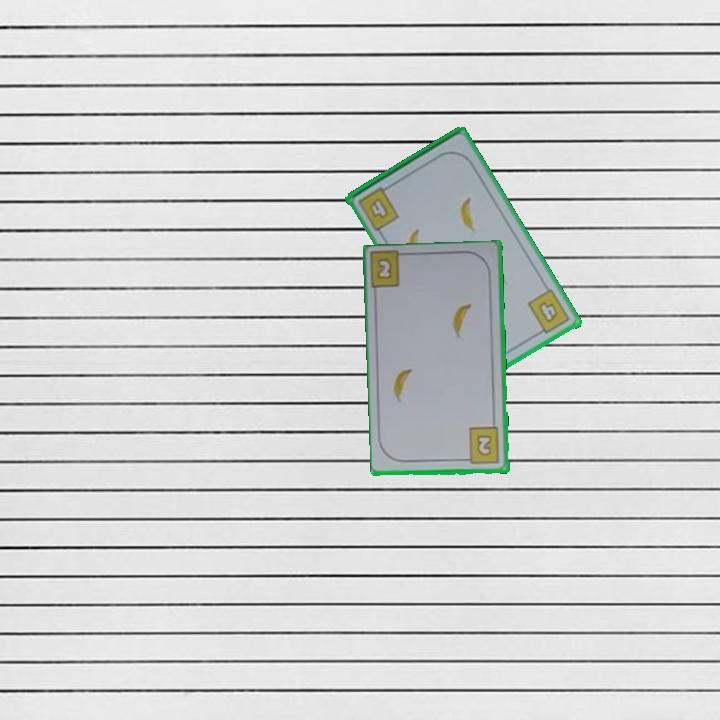2b: (460, 424, 502, 467), (376, 257, 393, 280)
4b: (524, 286, 573, 339), (355, 181, 402, 234)
